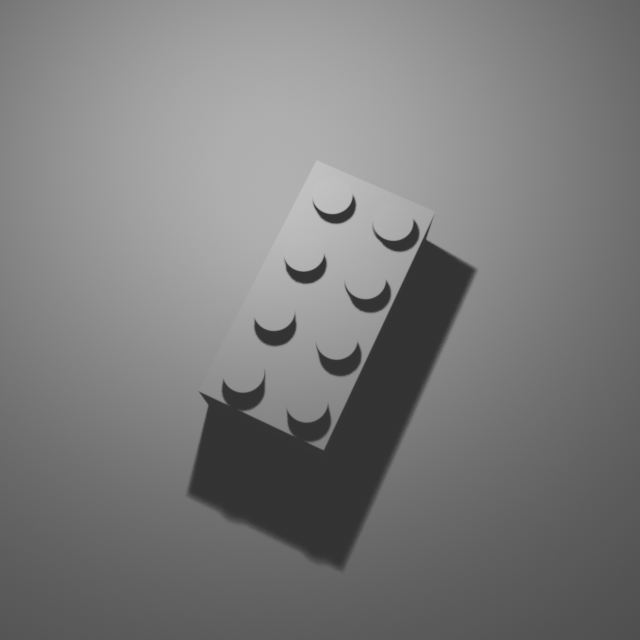lego_2x4: (196, 155, 437, 460)
